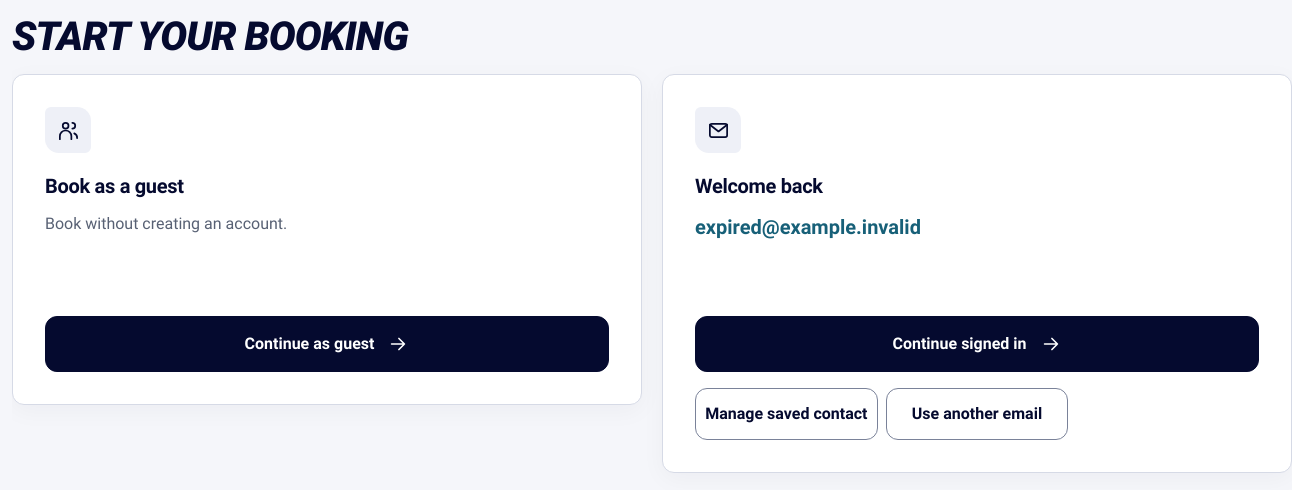
Test: saved-contact entry revalidates expired identity before loading private details
Click the button "Manage saved contact": coordinates (786, 414) [695,388,878,440]
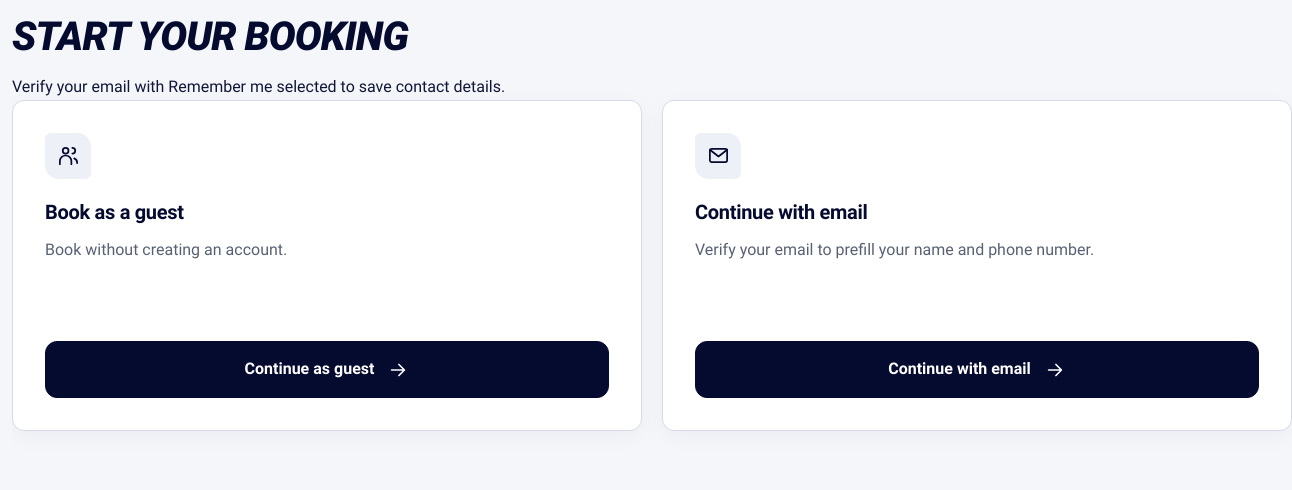
Check: the message shows "Verify your email with Remember me selected", box [12,77,505,96]
Check: the button "Manage saved contact" is gone
